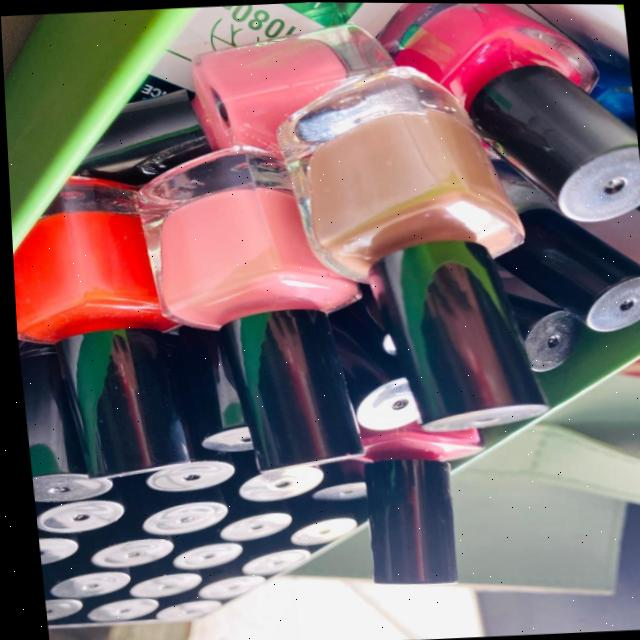nail polish: (269, 77, 566, 441), (122, 151, 364, 485), (7, 175, 219, 510), (63, 0, 372, 186), (395, 2, 640, 234)
